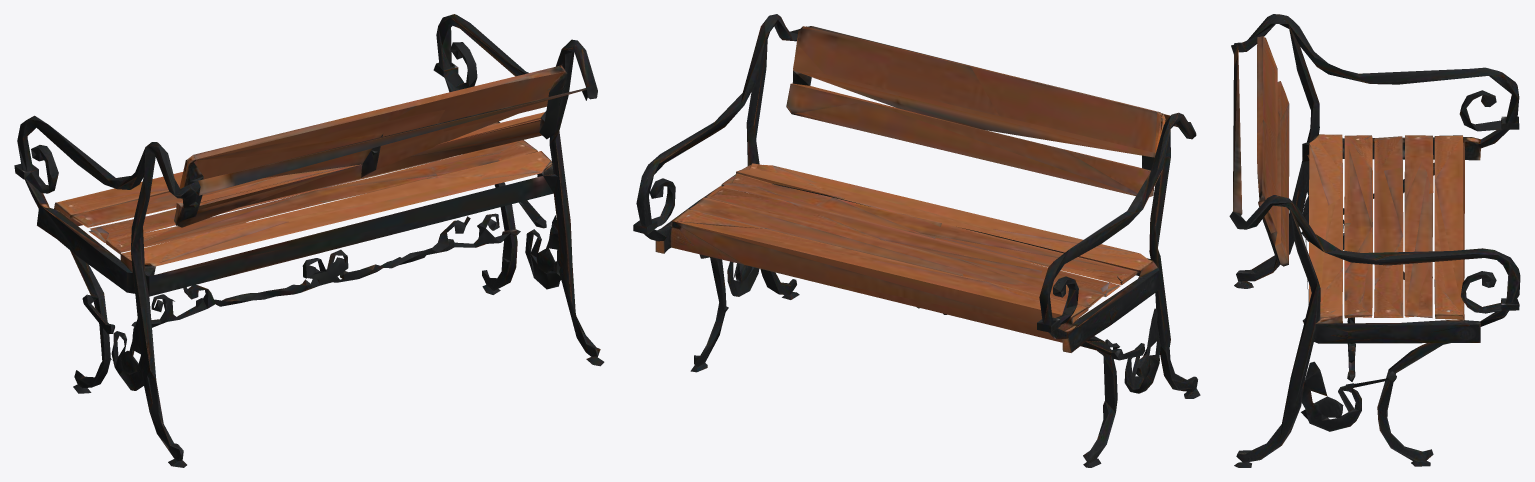
The model's file is mj-deck-bench.glb.
3 views of the same model, side by side, from view 1: azimuth 30°, elevation 25°; view 2: azimuth 150°, elevation 25°; view 3: azimuth 270°, elevation 25° (orthographic). The views are drawn at different scales.
Visible parts, largest first — view 1: mj-deck-bench; view 2: mj-deck-bench; view 3: mj-deck-bench.
Part boxes in pixels (x1=…): mj-deck-bench: x1=14, y1=14, x2=604, y2=467; mj-deck-bench: x1=633, y1=14, x2=1200, y2=467; mj-deck-bench: x1=1229, y1=14, x2=1520, y2=467.
Bounding box in the file's own units: 1.27 × 0.85 × 0.8248.
1 material, 1 textured.
